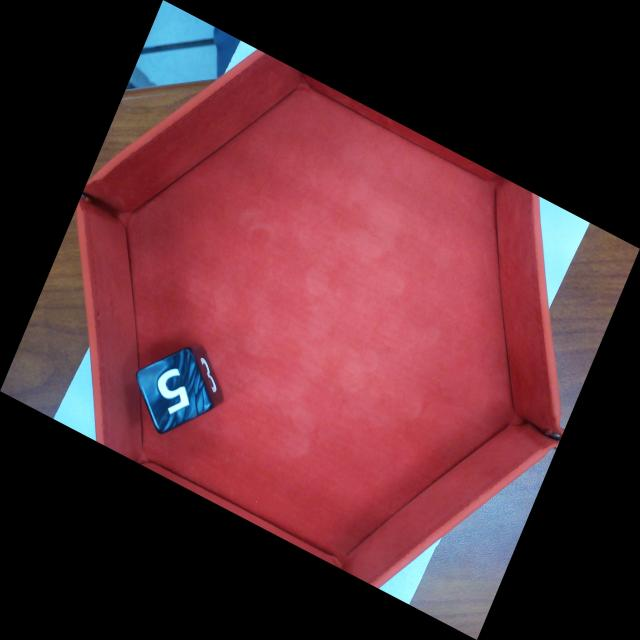dice: (140, 353, 213, 432)
